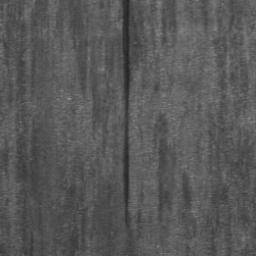Scratches: (122, 0, 130, 222)
